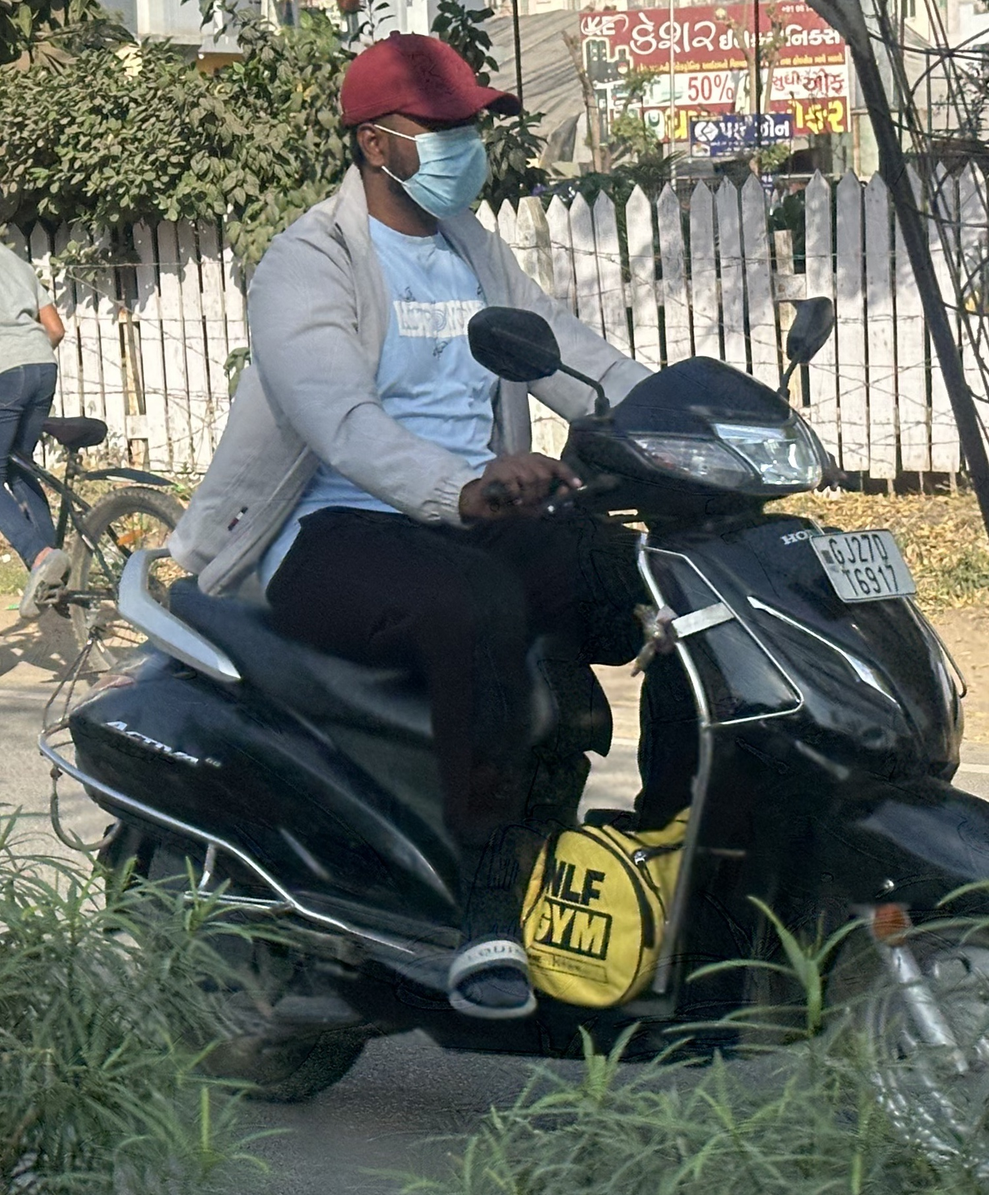BikeWithRider: (27, 11, 989, 1195)
NoHelmet: (325, 20, 548, 257)
